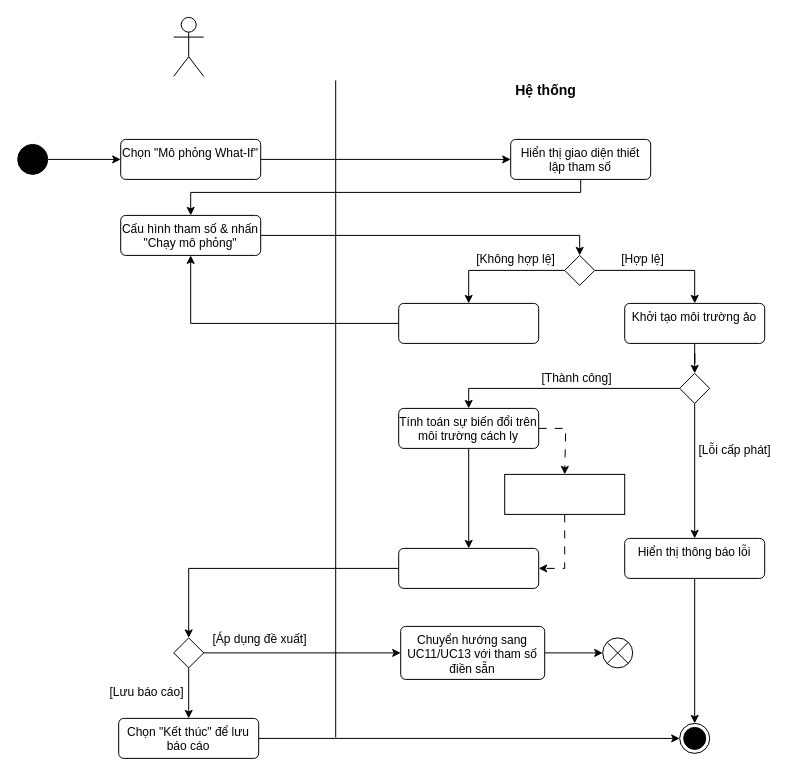
Image size: 797x776. Some labels were removed from this diagram. Here are the shapes that lost their labels. From the top down, the centre of each, then its label:
At pixel 188 46: "Đơn vị vận hành".
At pixel 468 322: "Bôi đỏ ô nhập liệu & hiển thị cảnh báo".
At pixel 564 493: "Báo cáo mô phỏng What-if".
At pixel 468 567: "Hiển thị báo cáo đánh giá & đề xuất điều phối".
